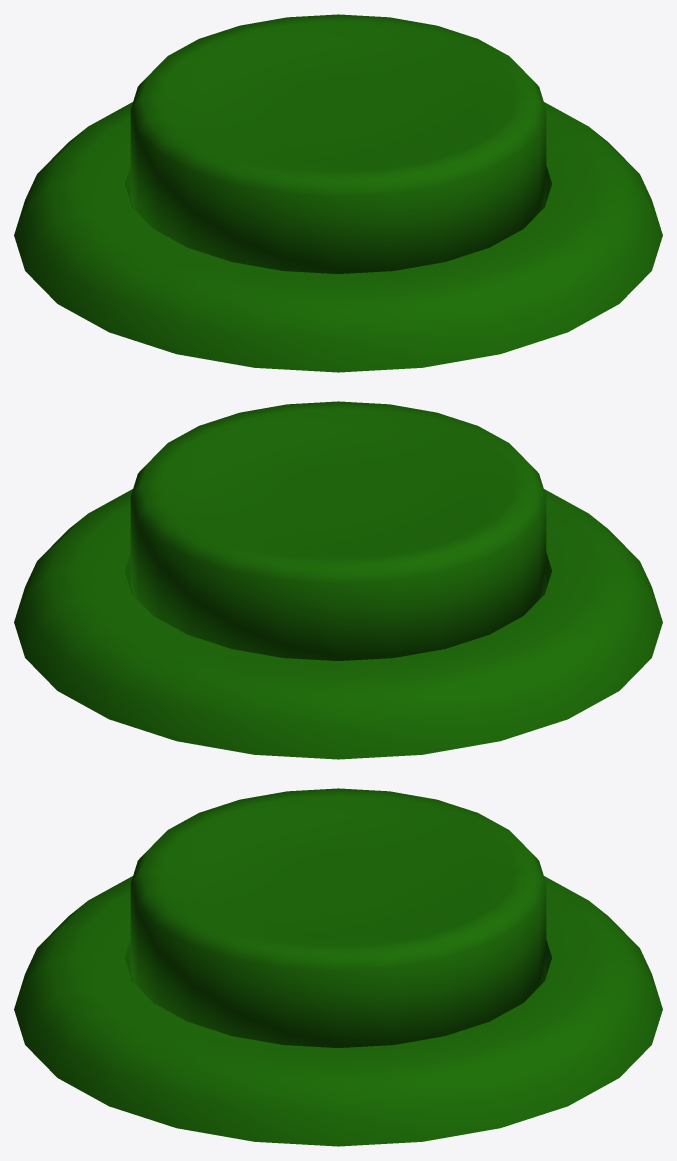
The model's file is button.glb.
3 views of the same model, one above another, from view 1: azimuth 30°, elevation 25°; view 2: azimuth 150°, elevation 25°; view 3: azimuth 270°, elevation 25° (orthographic).
Visible parts, largest first — view 1: Cylinder, Torus; view 2: Cylinder, Torus; view 3: Cylinder, Torus.
Boxes of the visible parts, x1,y1,x2,y2 form: Cylinder: [130, 14, 546, 273]; Torus: [14, 102, 662, 372]; Cylinder: [130, 401, 546, 660]; Torus: [14, 489, 662, 759]; Cylinder: [130, 788, 546, 1047]; Torus: [14, 876, 662, 1146].
Size of the model in its own units: 2.5 by 0.5872 by 2.5.
